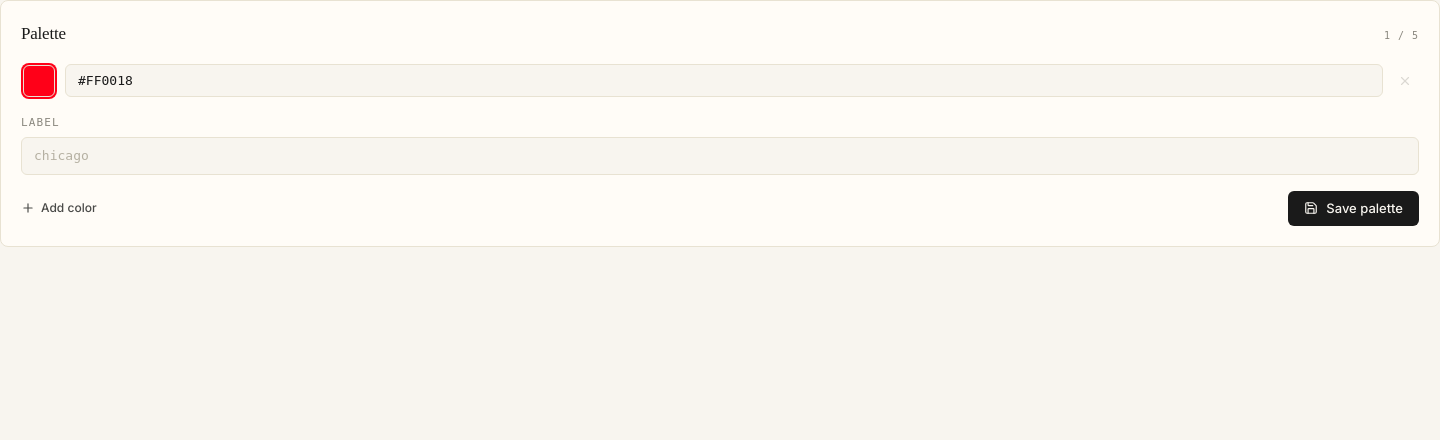
PalettePanel › add_color_button_disabled_at_five_entries
Click the button "Add color" at (59, 208), box left=21, top=199, right=96, bottom=217
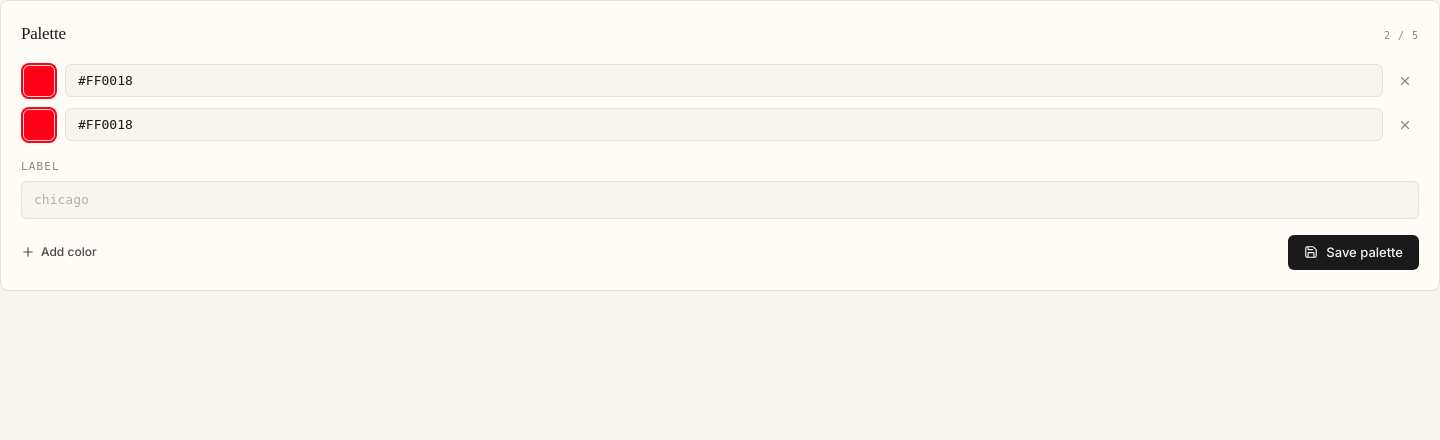
Click the button "Add color" at (59, 252), box left=21, top=243, right=96, bottom=261
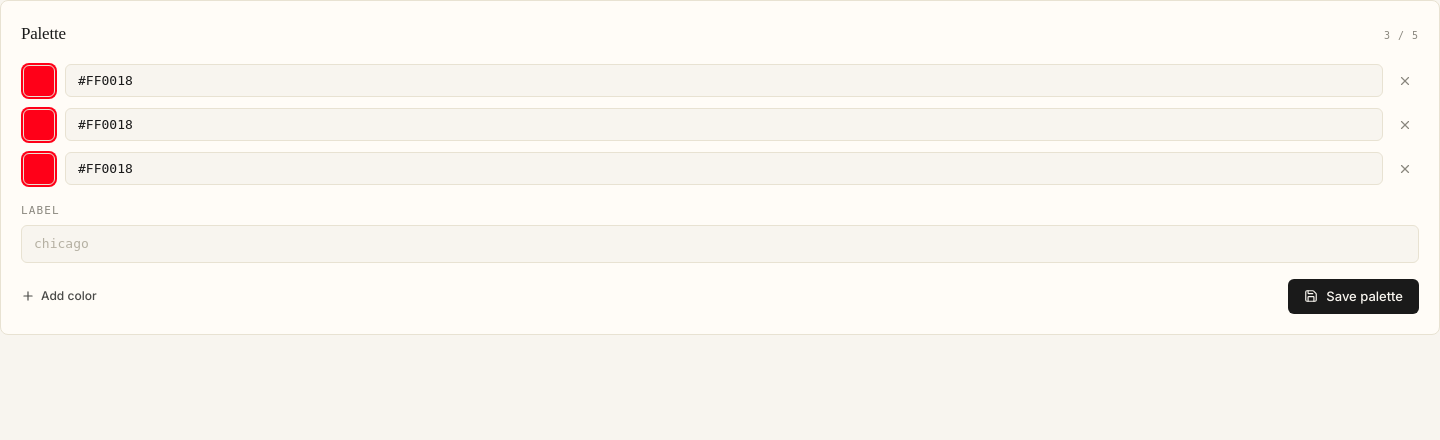
Click the button "Add color" at (59, 296), box left=21, top=287, right=96, bottom=305
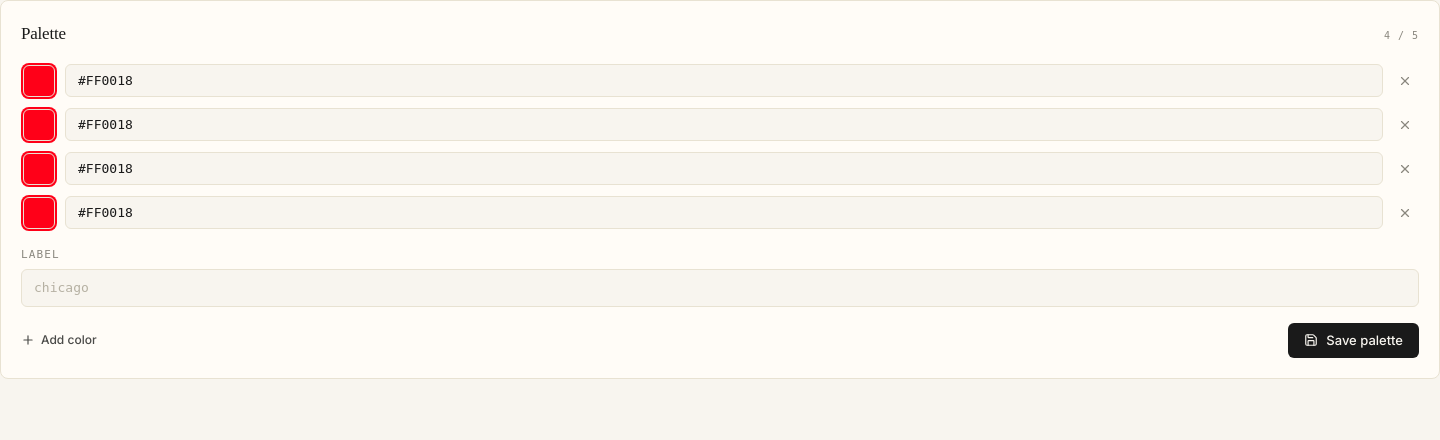
Click the button "Add color" at (59, 340), box left=21, top=331, right=96, bottom=349
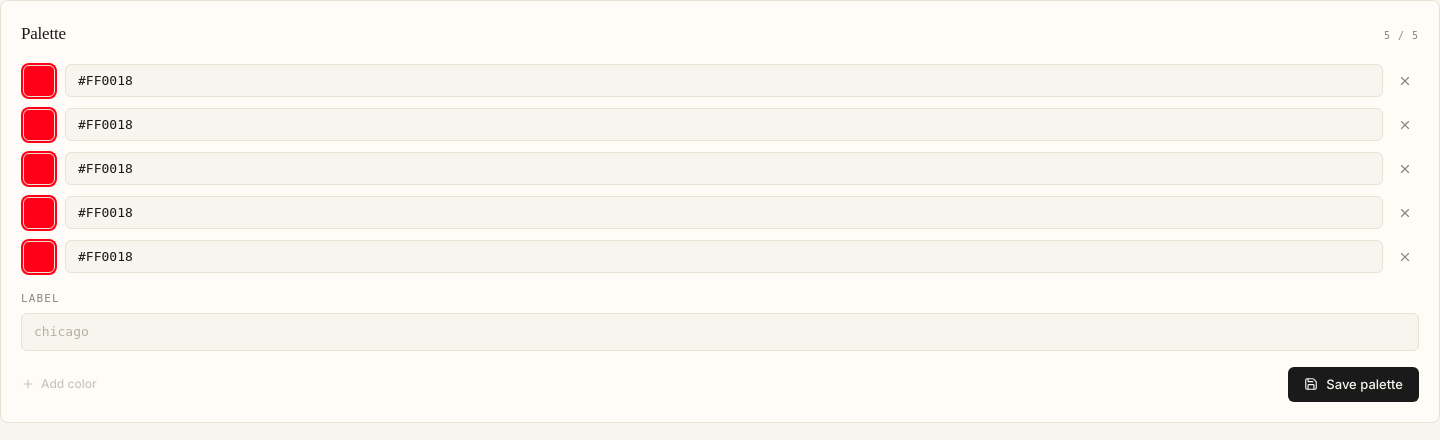
Check: the button "Add color" is disabled, box left=21, top=375, right=96, bottom=393
